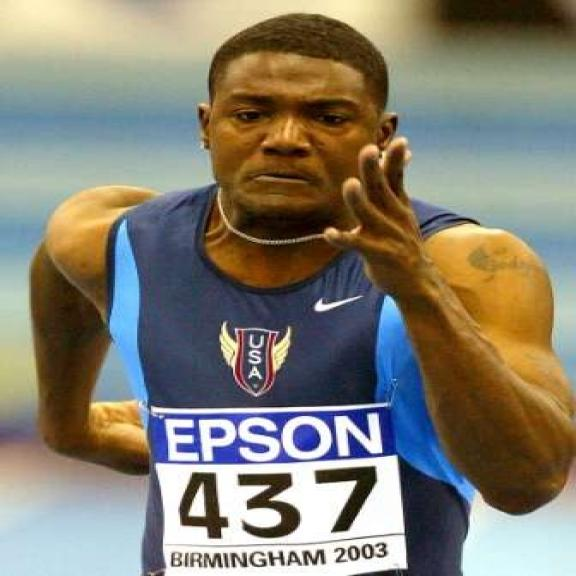face: (183, 46, 396, 222)
